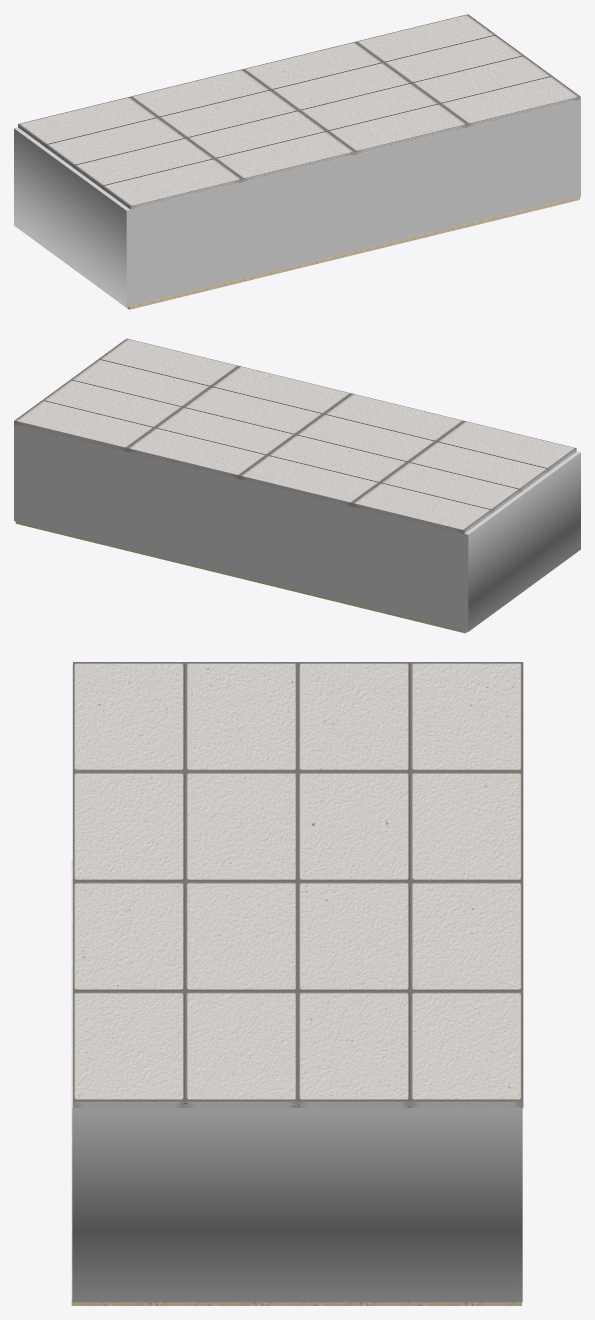
File: AulaFINAL.fbx
The picture shows the model from 3 angles, top to bottom: view 1: azimuth 30°, elevation 25°; view 2: azimuth 150°, elevation 25°; view 3: azimuth 270°, elevation 25°; orthographic projection. The views are drawn at different scales.
Parts seen in each view (by area): view 1: aula, techo, piso; view 2: aula, techo, piso; view 3: techo, aula, piso.
Part boxes in pixels (<box>): aula: <box>14,100,580,307</box>; techo: <box>18,14,580,209</box>; piso: <box>127,196,579,309</box>; aula: <box>14,424,580,631</box>; techo: <box>14,338,576,533</box>; piso: <box>15,521,467,633</box>; techo: <box>73,662,523,1107</box>; aula: <box>72,664,522,1302</box>; piso: <box>71,860,521,1305</box>.
Bounding box in the file's own units: 2769 × 598 × 1192.
